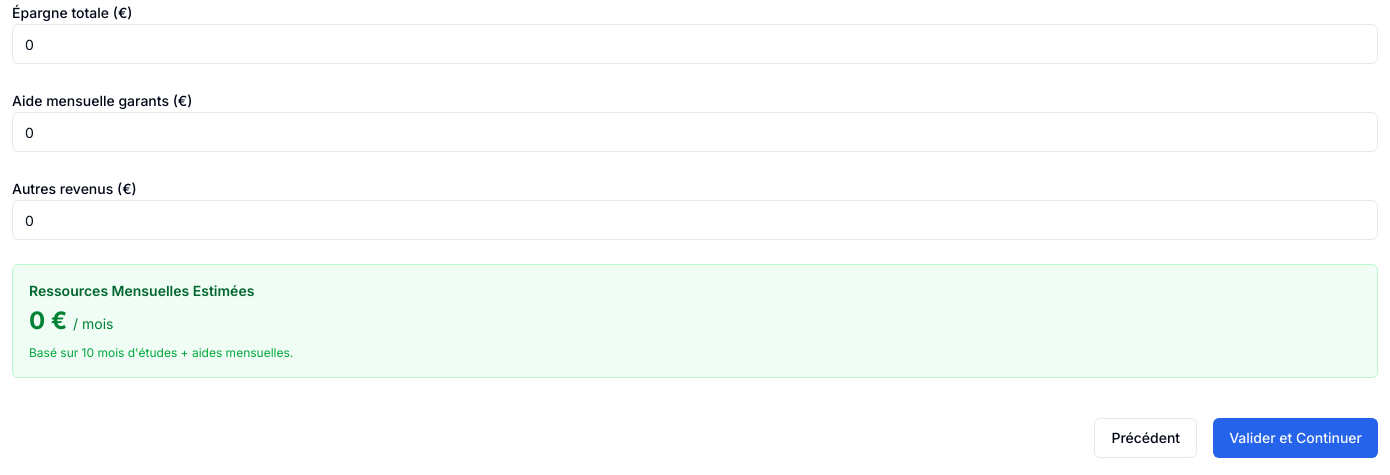
it: BudgetStepForm › calculates total estimated monthly resource correctly
Replace the text in the number field labelled "Épargne totale (€)" with "5000" at (695, 44), box [12,24,1378,64]
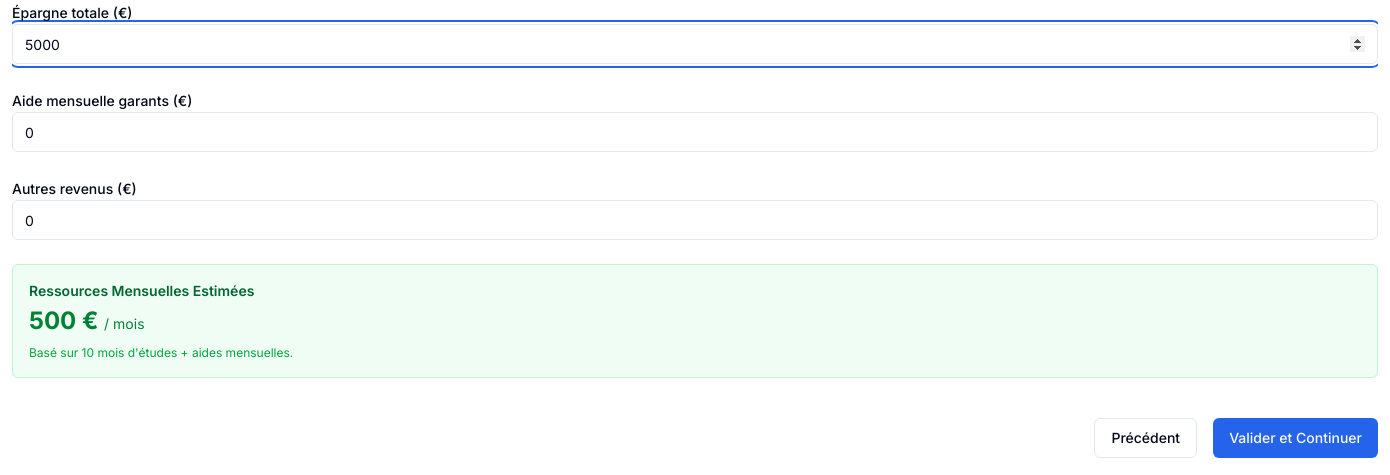
Replace the text in the number field labelled "Aide mensuelle garants (€)" with "300" at (695, 132), box [12,112,1378,152]
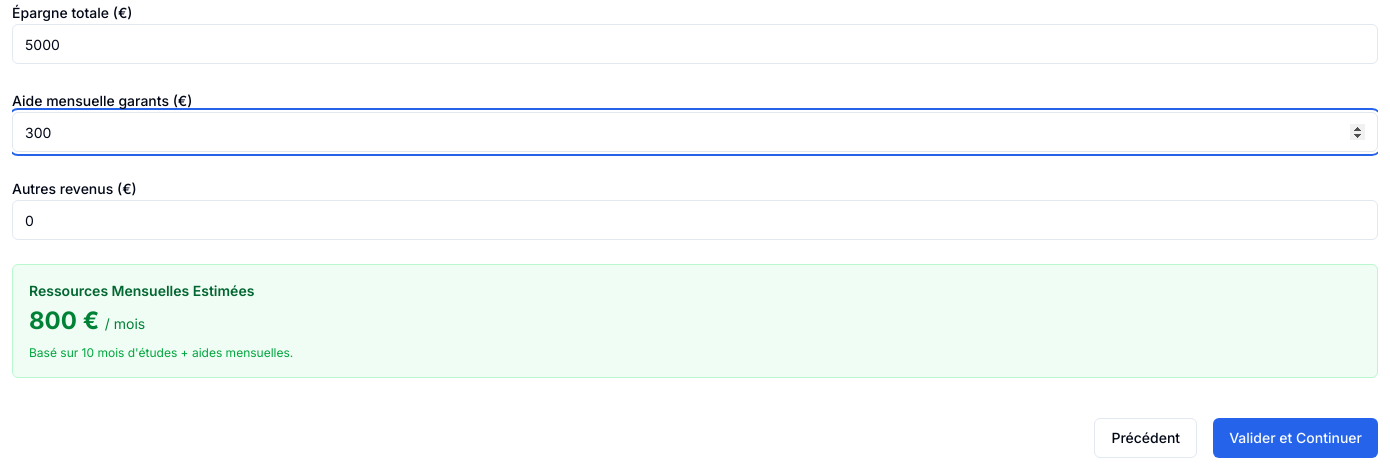
Check: the text "800 € / mois" is shown, box [29,306,145,335]
